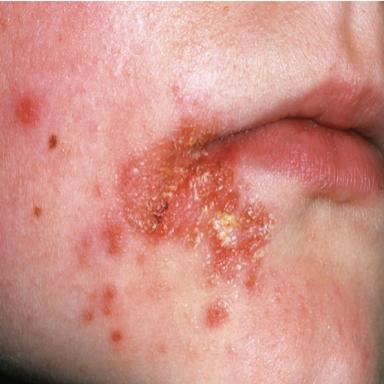Impetigo: (119, 127, 275, 284)
